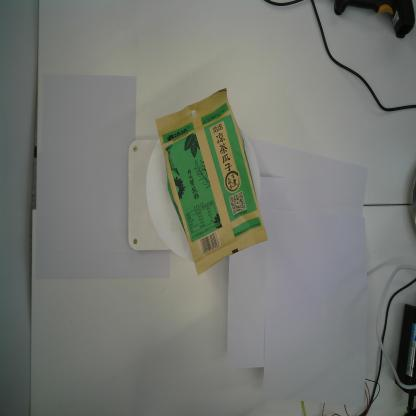Dried Food: (154, 85, 269, 279)
